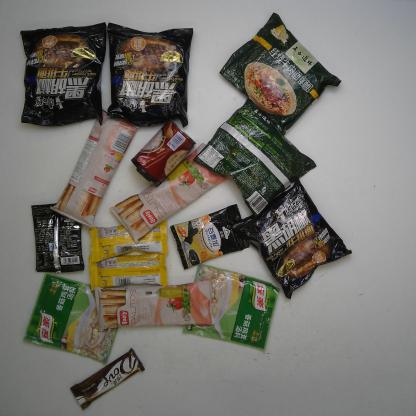Canned Food: (131, 121, 196, 185)
Chocolate: (69, 348, 145, 410), (89, 217, 169, 266), (89, 251, 168, 289)
Dessert: (111, 141, 230, 242), (49, 104, 139, 228), (96, 279, 215, 331)
Instant Drink: (170, 204, 248, 270), (30, 200, 86, 273)
Instant Noodles: (220, 12, 341, 135), (231, 177, 351, 300), (195, 97, 316, 216), (21, 22, 106, 126), (108, 23, 193, 127)
Seasoner: (22, 273, 125, 363), (181, 264, 280, 352)
